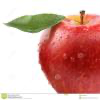Apple leaf: (1, 9, 68, 34)
